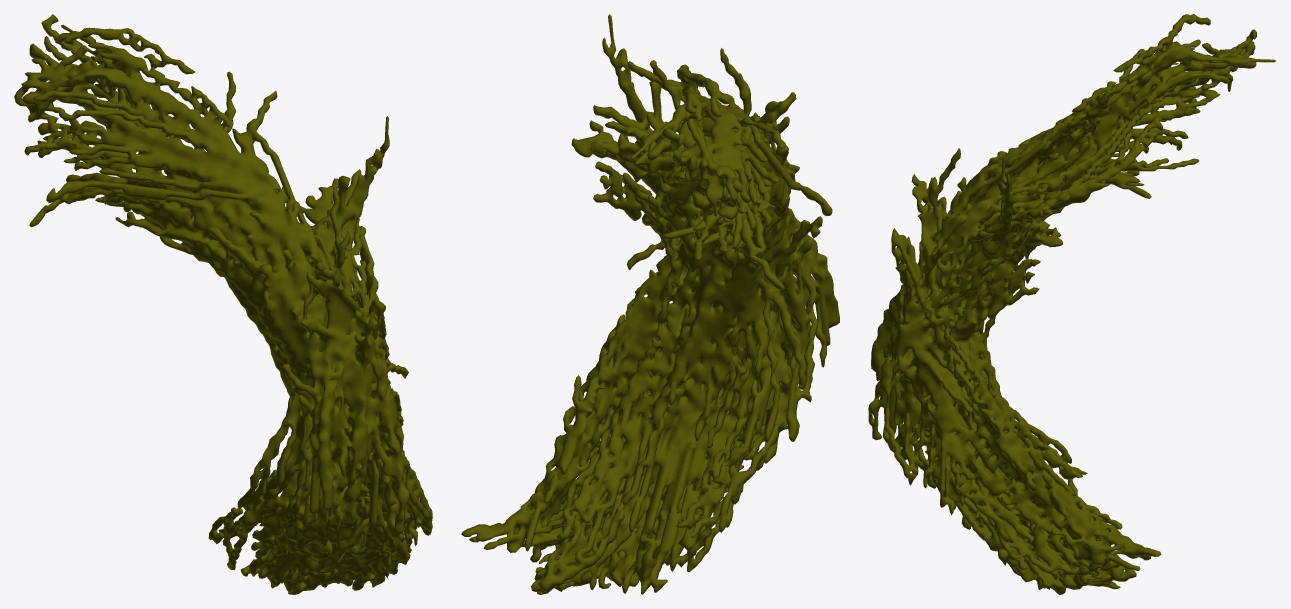
The model's file is Optical_radiation.obj.
The picture shows the model from 3 angles, left to right: view 1: azimuth 30°, elevation 25°; view 2: azimuth 150°, elevation 25°; view 3: azimuth 270°, elevation 25°; orthographic projection. The views are drawn at different scales.
Visible parts, largest first — view 1: grp1; view 2: grp1; view 3: grp1.
Part boxes in pixels (x1,y1,x2,y2): grp1: (14,14,432,594); grp1: (461,14,839,594); grp1: (868,14,1275,594).
Bounding box in the file's own units: 66.53 × 107 × 80.9.
